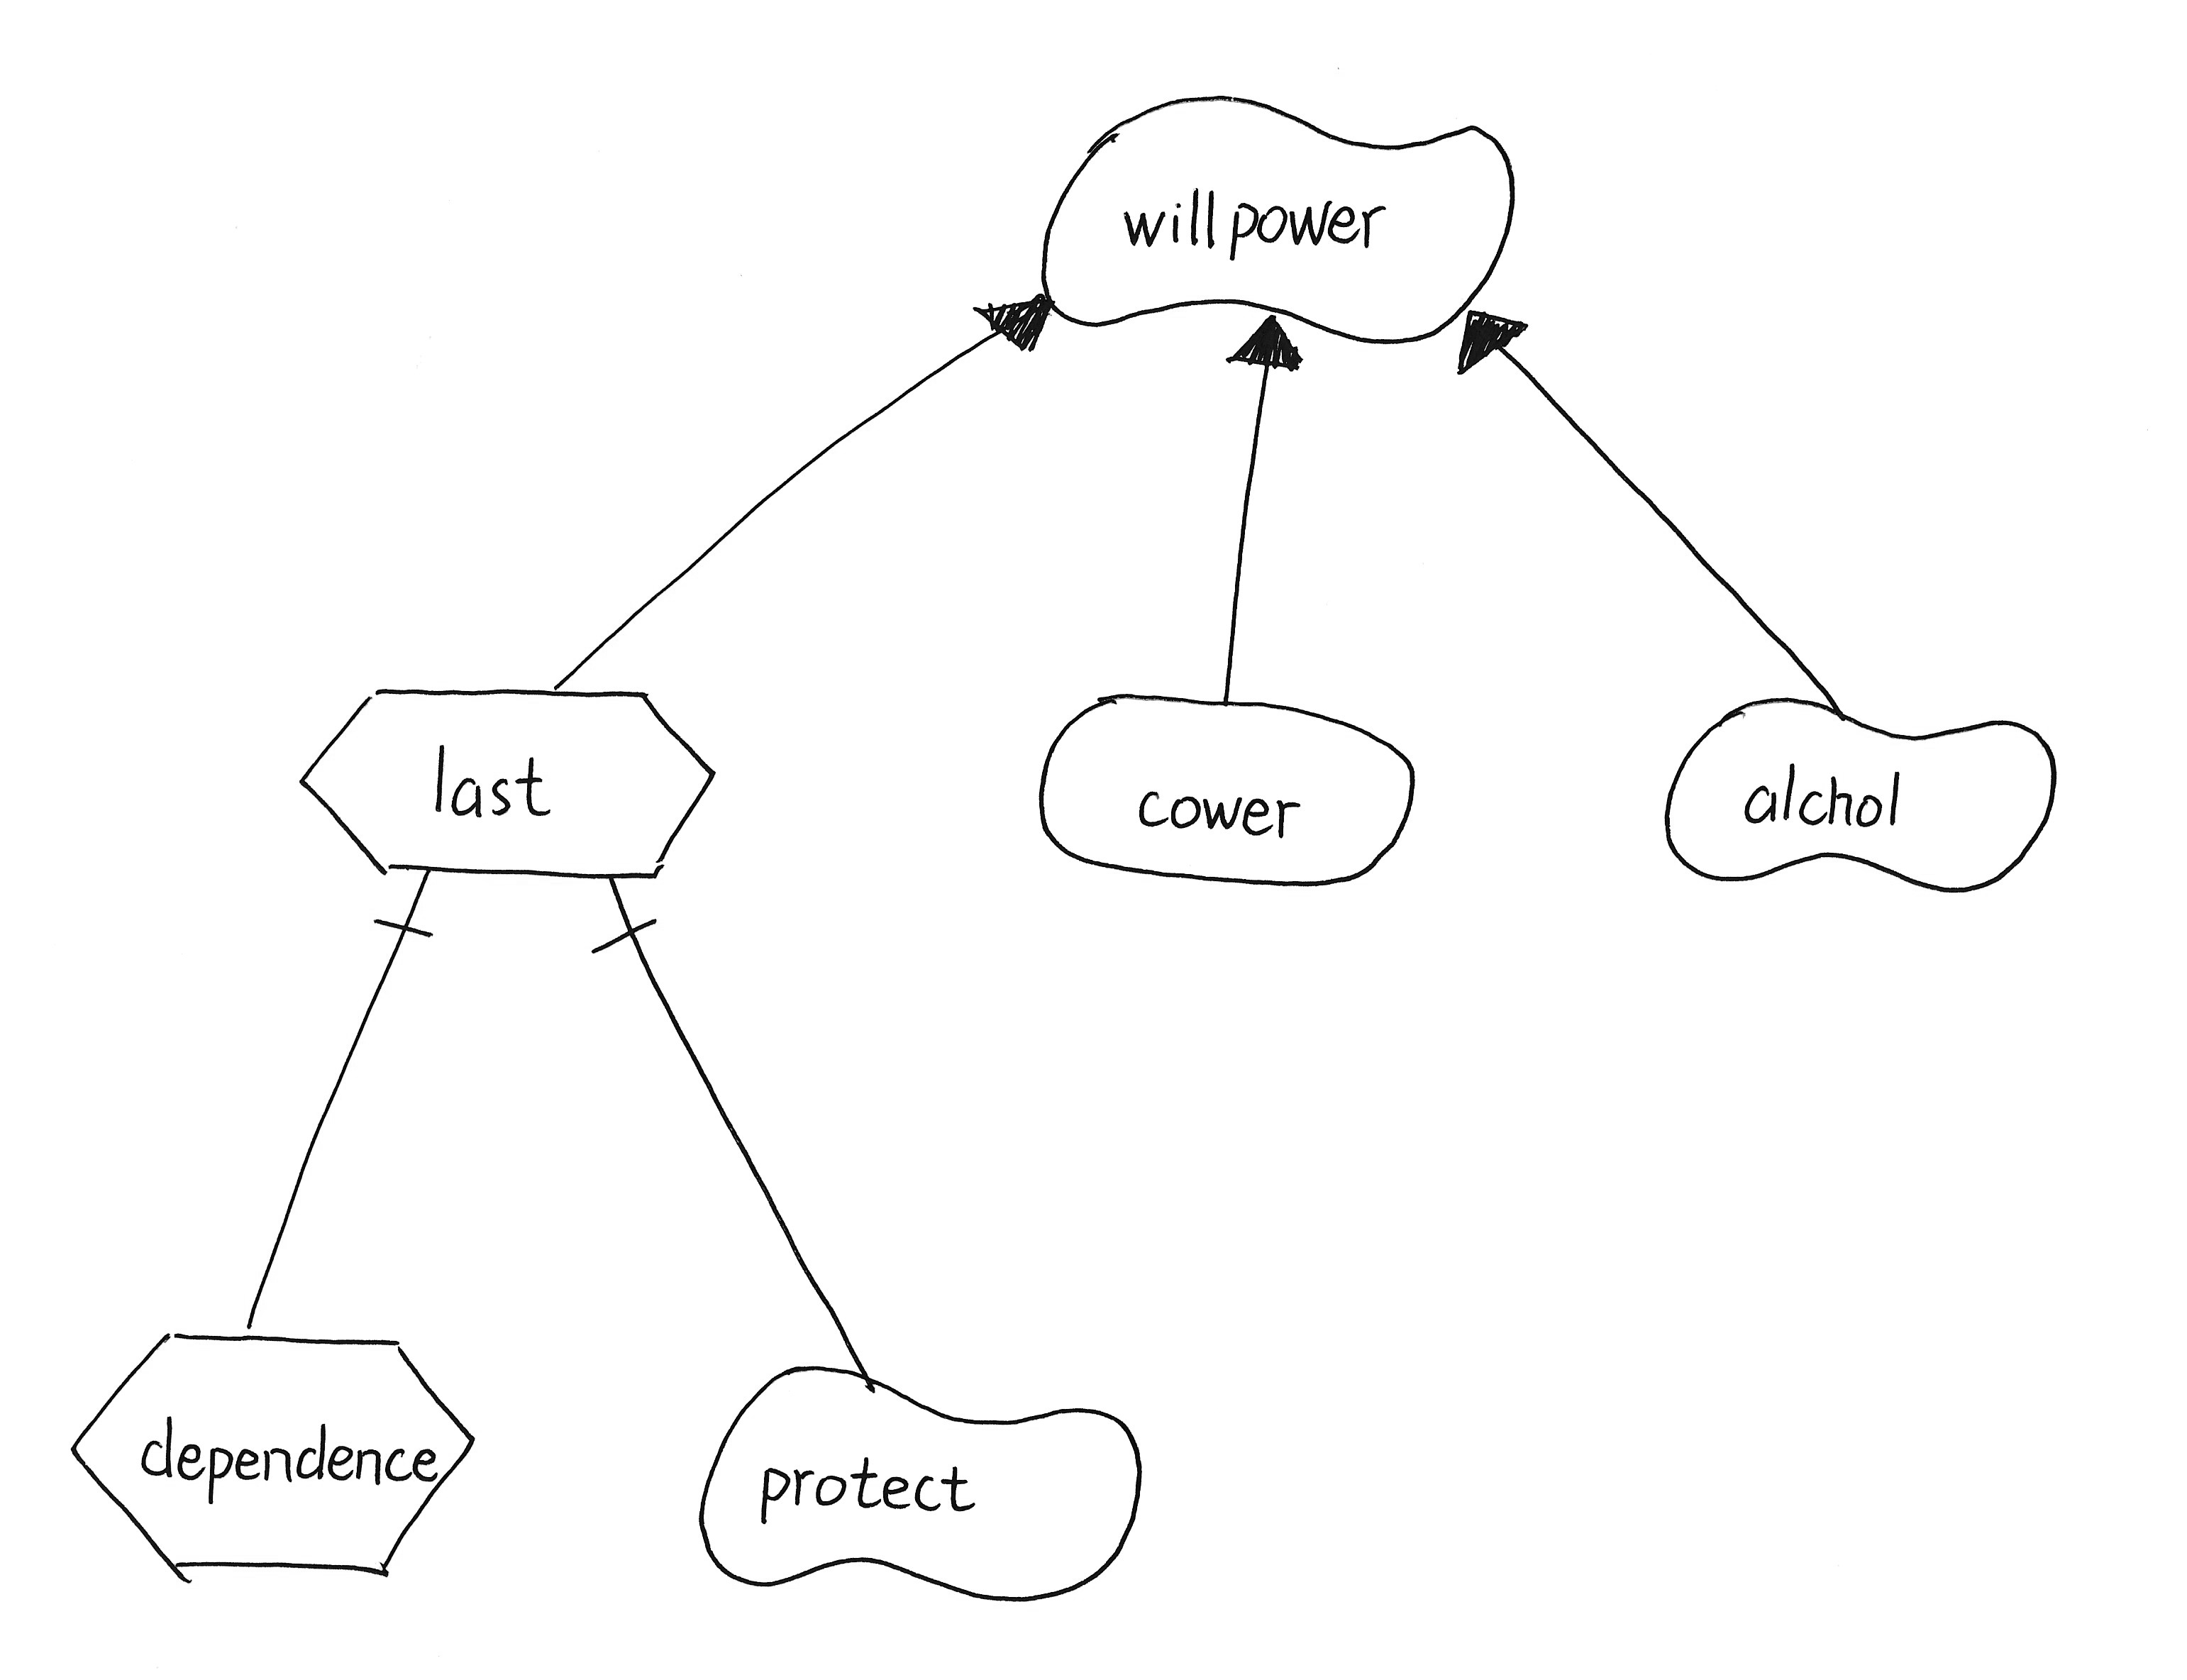and: (358, 877, 462, 969), (570, 889, 674, 979)
goal: (1016, 672, 1430, 905)
or: (951, 275, 1060, 379), (1443, 295, 1541, 392), (1215, 300, 1314, 388)
quality: (1030, 83, 1527, 355), (684, 1339, 1157, 1616), (1638, 674, 2074, 907)
task: (60, 1315, 489, 1606), (287, 667, 735, 895)
